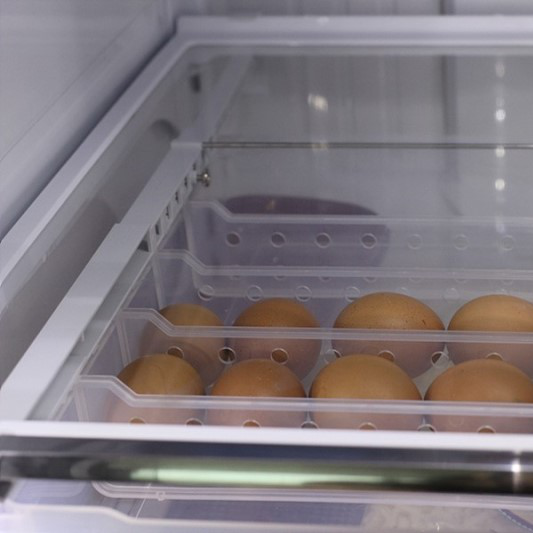egg: (112, 293, 533, 432)
